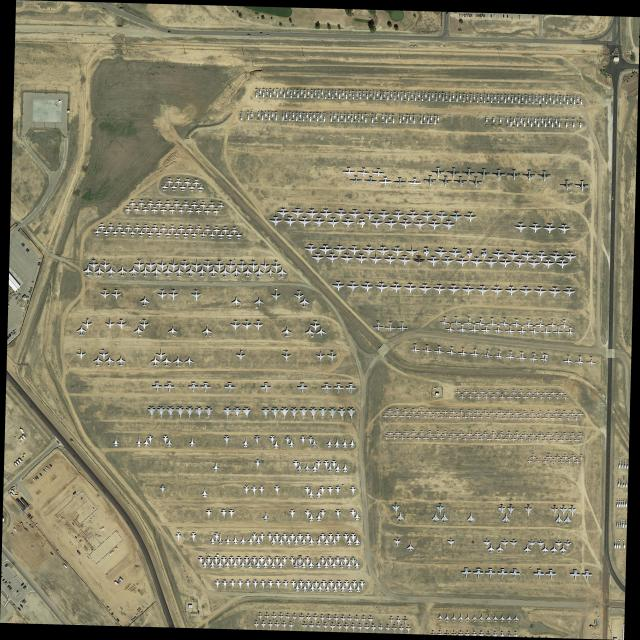plane: (439, 176, 454, 188), (523, 171, 537, 183), (477, 169, 491, 181), (469, 177, 483, 189), (447, 168, 461, 180), (492, 170, 507, 181), (431, 168, 446, 179), (576, 181, 589, 193), (508, 170, 521, 182), (276, 208, 290, 219), (291, 208, 305, 219), (492, 250, 506, 261), (470, 257, 484, 268), (513, 258, 527, 269), (527, 258, 541, 269), (549, 252, 563, 263), (560, 181, 574, 192), (538, 171, 552, 182), (462, 169, 476, 180), (454, 177, 468, 188), (424, 176, 438, 187), (391, 247, 404, 258), (363, 246, 376, 257), (456, 257, 469, 268), (441, 256, 454, 267), (427, 256, 440, 267), (384, 255, 397, 266), (326, 253, 339, 264), (542, 259, 555, 270), (556, 259, 569, 270), (450, 212, 463, 223), (529, 223, 542, 234), (558, 224, 571, 235), (333, 246, 347, 256), (506, 251, 520, 261), (442, 221, 456, 231), (357, 168, 371, 178), (260, 261, 271, 273), (157, 260, 168, 272), (140, 266, 151, 278), (509, 569, 521, 580), (270, 216, 282, 227), (435, 248, 447, 259), (312, 253, 324, 264), (406, 248, 419, 258), (377, 247, 390, 257), (348, 246, 361, 256), (319, 245, 332, 255), (305, 245, 318, 255), (298, 217, 311, 227), (284, 217, 297, 227), (534, 287, 547, 297), (306, 209, 319, 219), (320, 209, 333, 219), (327, 218, 340, 228), (335, 210, 348, 220), (370, 219, 383, 229), (377, 211, 390, 221), (384, 219, 397, 229), (392, 211, 405, 221), (406, 211, 419, 221), (413, 220, 426, 230), (449, 249, 462, 259), (521, 252, 534, 262), (349, 210, 362, 220), (342, 218, 355, 228), (563, 288, 576, 298), (413, 256, 426, 266), (369, 255, 382, 265), (355, 255, 368, 265), (340, 254, 353, 264), (564, 253, 577, 263), (535, 252, 548, 262), (428, 220, 441, 230), (421, 212, 434, 222), (436, 212, 449, 222), (464, 213, 477, 223), (544, 224, 557, 234), (363, 211, 376, 221), (520, 287, 533, 297), (505, 286, 518, 296), (332, 282, 345, 292), (347, 282, 360, 292), (361, 283, 374, 293), (375, 283, 388, 293), (404, 284, 417, 294), (433, 285, 446, 295), (447, 285, 460, 295), (372, 169, 386, 178), (364, 177, 378, 186), (349, 176, 363, 185), (191, 261, 202, 272), (231, 267, 242, 278), (271, 261, 282, 272), (248, 261, 259, 272), (214, 261, 225, 272), (310, 321, 321, 332), (168, 290, 179, 301), (157, 289, 168, 300), (139, 296, 150, 307), (111, 289, 122, 300), (117, 266, 128, 277), (128, 266, 139, 277), (230, 320, 241, 331), (188, 382, 199, 393), (333, 383, 344, 394), (281, 350, 292, 361), (98, 349, 109, 360), (164, 382, 175, 393), (152, 382, 163, 393), (473, 568, 484, 579), (570, 570, 581, 581), (461, 568, 472, 579), (169, 260, 179, 272), (209, 266, 219, 278), (316, 327, 326, 339), (231, 297, 241, 309), (95, 266, 105, 278), (151, 266, 161, 278), (400, 220, 412, 230), (399, 256, 411, 266), (485, 258, 497, 268), (515, 223, 527, 233), (475, 318, 487, 328), (419, 284, 431, 294), (477, 286, 489, 296), (491, 286, 503, 296), (481, 350, 493, 360), (493, 351, 505, 361), (528, 353, 540, 363), (347, 407, 356, 420), (299, 407, 308, 420), (233, 407, 242, 420), (195, 406, 204, 419), (166, 406, 175, 419), (157, 406, 166, 419), (147, 406, 156, 419), (312, 218, 325, 227), (499, 259, 512, 268), (390, 284, 403, 293), (462, 286, 475, 295), (342, 168, 356, 176), (393, 178, 407, 186), (379, 178, 393, 186), (254, 267, 264, 278), (237, 261, 247, 272), (226, 261, 236, 272), (180, 260, 190, 271), (134, 260, 144, 271), (89, 260, 99, 271), (220, 267, 230, 278), (197, 267, 207, 278), (186, 266, 196, 277), (241, 321, 252, 331), (253, 321, 264, 331), (300, 297, 310, 308), (294, 290, 304, 301), (271, 290, 281, 301), (191, 290, 201, 301), (100, 289, 110, 300), (106, 267, 116, 278), (163, 266, 173, 277), (174, 267, 184, 278), (83, 266, 93, 277), (139, 319, 149, 330), (224, 383, 235, 393), (261, 383, 272, 393), (297, 383, 308, 393), (321, 384, 332, 394), (346, 383, 356, 394), (327, 351, 337, 362), (315, 351, 326, 361), (235, 351, 246, 361), (184, 357, 195, 367), (162, 356, 172, 367), (150, 356, 160, 367), (156, 349, 166, 360), (116, 356, 126, 367), (105, 356, 115, 367), (93, 356, 103, 367), (76, 349, 86, 360), (77, 326, 87, 337), (82, 319, 92, 330), (134, 326, 144, 337), (200, 383, 211, 393), (498, 569, 508, 580), (534, 569, 544, 580), (582, 571, 593, 581), (485, 569, 496, 579), (445, 324, 456, 334), (439, 317, 450, 327), (499, 318, 510, 328), (410, 344, 421, 354), (422, 345, 433, 355), (434, 346, 445, 356), (446, 347, 457, 357), (505, 351, 516, 361), (575, 357, 586, 367), (559, 320, 570, 330), (529, 326, 540, 336), (328, 407, 337, 419), (223, 407, 232, 419), (549, 288, 561, 297), (290, 407, 298, 420), (281, 407, 289, 420), (262, 407, 270, 420), (205, 406, 213, 419), (186, 406, 194, 419), (176, 406, 184, 419), (507, 504, 515, 517), (498, 504, 506, 517), (408, 179, 421, 187), (243, 268, 253, 278), (277, 268, 287, 278), (203, 261, 213, 271), (202, 327, 212, 337), (146, 261, 156, 271), (100, 261, 110, 271), (282, 327, 292, 337), (305, 328, 315, 338), (168, 327, 178, 337), (173, 357, 183, 367), (105, 320, 115, 330), (116, 320, 126, 330), (546, 570, 556, 580), (505, 326, 516, 335), (487, 319, 498, 328), (481, 325, 492, 334), (463, 318, 474, 327), (451, 318, 462, 327), (397, 323, 408, 332), (511, 320, 522, 329), (517, 326, 528, 335), (458, 348, 469, 357), (470, 349, 481, 358), (563, 356, 574, 365), (586, 358, 597, 367), (553, 327, 564, 336), (547, 320, 558, 329), (541, 327, 552, 336), (535, 320, 546, 329), (523, 320, 534, 329), (338, 408, 346, 420), (319, 407, 327, 419), (309, 407, 317, 419), (271, 407, 279, 419), (243, 407, 251, 419), (502, 512, 510, 524), (551, 505, 559, 517), (555, 513, 563, 525), (560, 506, 568, 518), (564, 513, 572, 525), (392, 503, 400, 515), (432, 511, 440, 523), (266, 268, 276, 277), (254, 298, 264, 307), (469, 325, 479, 334), (517, 353, 527, 362), (540, 354, 550, 363), (565, 327, 575, 336), (467, 513, 475, 524), (385, 323, 396, 331), (373, 323, 384, 331), (525, 505, 532, 517), (441, 511, 448, 523), (437, 504, 444, 516), (397, 511, 404, 523), (235, 556, 243, 566), (212, 462, 220, 472), (135, 437, 143, 447), (188, 437, 196, 447), (541, 545, 549, 555), (528, 539, 536, 549), (510, 539, 518, 549), (447, 538, 455, 548), (478, 613, 486, 623), (376, 623, 384, 633), (321, 622, 329, 632), (493, 326, 503, 334), (457, 325, 467, 333), (213, 532, 220, 543), (569, 506, 576, 517), (551, 544, 558, 555), (120, 228, 128, 237), (146, 229, 154, 238), (195, 207, 203, 216), (182, 201, 190, 210), (137, 200, 146, 208), (179, 183, 187, 192), (166, 178, 174, 187), (102, 228, 110, 237), (190, 230, 198, 239), (199, 230, 207, 239), (221, 227, 230, 235), (195, 225, 203, 234), (133, 225, 142, 233), (124, 206, 132, 215), (151, 206, 159, 215), (564, 540, 572, 549), (559, 545, 567, 554), (555, 540, 563, 549), (537, 540, 545, 549), (501, 539, 509, 548), (496, 544, 504, 553), (487, 544, 495, 553), (483, 539, 491, 548), (369, 624, 377, 633), (363, 624, 371, 633), (356, 623, 364, 632), (349, 623, 357, 632), (313, 580, 320, 590), (309, 582, 316, 592), (305, 580, 312, 590), (298, 580, 305, 590), (294, 582, 301, 592), (252, 580, 259, 590), (229, 580, 236, 590), (214, 579, 221, 589), (197, 556, 204, 566), (202, 558, 209, 568), (206, 556, 213, 566), (209, 558, 216, 568), (213, 556, 220, 566), (328, 580, 335, 590), (336, 580, 343, 590), (351, 580, 358, 590), (343, 580, 350, 590), (228, 556, 235, 566), (354, 559, 361, 569), (350, 557, 357, 567), (350, 533, 357, 543), (343, 533, 350, 543), (327, 533, 334, 543), (319, 533, 326, 543), (304, 533, 311, 543), (297, 533, 304, 543), (278, 535, 285, 545), (300, 559, 307, 569), (308, 559, 315, 569), (323, 559, 330, 569), (232, 535, 239, 545), (201, 488, 208, 498), (334, 463, 341, 473), (342, 463, 349, 473), (323, 460, 330, 470), (315, 460, 322, 470), (292, 460, 299, 470), (254, 459, 261, 469), (112, 437, 119, 447), (143, 437, 150, 447), (162, 435, 169, 445), (242, 438, 249, 448), (269, 435, 276, 445), (251, 486, 258, 496), (258, 486, 265, 496), (217, 535, 224, 545), (190, 532, 197, 542), (175, 532, 182, 542), (205, 509, 212, 519), (220, 509, 227, 519), (228, 509, 235, 519), (289, 509, 296, 519), (354, 511, 361, 521), (308, 512, 315, 522), (320, 509, 327, 519), (319, 486, 326, 496), (288, 438, 295, 448), (311, 438, 318, 448), (326, 438, 333, 448), (334, 438, 341, 448), (253, 620, 260, 630), (485, 613, 492, 623), (464, 613, 471, 623), (457, 613, 464, 623), (298, 613, 305, 623), (384, 623, 391, 633), (312, 613, 319, 623), (305, 613, 312, 623), (222, 579, 228, 590), (255, 558, 261, 569), (472, 613, 478, 624), (111, 228, 119, 236), (129, 229, 137, 237), (155, 230, 163, 238), (164, 230, 172, 238), (173, 230, 181, 238), (212, 208, 220, 216), (217, 203, 225, 211), (208, 202, 216, 210), (173, 201, 181, 209), (164, 201, 172, 209), (147, 200, 155, 208), (129, 200, 137, 208), (161, 183, 169, 191), (170, 183, 178, 191), (188, 184, 196, 192), (192, 179, 200, 187), (184, 179, 192, 187), (107, 224, 115, 232), (98, 224, 106, 232), (186, 208, 194, 216), (177, 207, 185, 215), (208, 231, 216, 239), (217, 231, 225, 239), (226, 232, 234, 240), (213, 227, 221, 235), (204, 226, 212, 234), (186, 226, 194, 234), (168, 225, 176, 233), (151, 225, 159, 233), (142, 225, 150, 233), (133, 206, 141, 214), (160, 207, 168, 215), (328, 623, 336, 631), (300, 623, 308, 631), (324, 583, 331, 592), (290, 580, 297, 589), (275, 580, 282, 589), (237, 580, 244, 589), (332, 583, 339, 592), (359, 581, 366, 590), (355, 583, 362, 592), (347, 583, 354, 592), (346, 536, 353, 545), (331, 536, 338, 545), (316, 536, 323, 545), (308, 536, 315, 545), (293, 536, 300, 545), (289, 533, 296, 542), (274, 533, 281, 542), (259, 533, 266, 542), (255, 536, 262, 545), (342, 557, 349, 566), (346, 560, 353, 569), (232, 559, 239, 568), (240, 559, 247, 568), (247, 559, 254, 568), (251, 557, 258, 566), (266, 557, 273, 566), (274, 557, 281, 566), (289, 557, 296, 566), (327, 557, 334, 566), (251, 533, 258, 542), (175, 178, 182, 187), (304, 463, 311, 472), (296, 463, 303, 472), (159, 485, 166, 494), (147, 435, 154, 444), (166, 438, 173, 447), (223, 435, 230, 444), (273, 440, 280, 449), (243, 486, 250, 495), (316, 512, 323, 521), (350, 509, 357, 518), (304, 486, 311, 495), (284, 436, 291, 445), (300, 436, 307, 445), (307, 436, 314, 445), (349, 439, 356, 448), (524, 545, 531, 554), (407, 543, 414, 552), (394, 538, 401, 547), (388, 616, 395, 625), (492, 614, 499, 623), (343, 623, 350, 632), (315, 623, 322, 632), (367, 616, 374, 625), (339, 614, 346, 623), (321, 580, 327, 590), (302, 582, 308, 592), (283, 579, 289, 589), (340, 582, 346, 592), (225, 558, 231, 568), (335, 533, 341, 543), (286, 535, 292, 545), (282, 533, 288, 543), (244, 556, 250, 566), (259, 556, 265, 566), (263, 558, 269, 568), (278, 559, 284, 569), (293, 559, 299, 569), (316, 559, 322, 569), (331, 559, 337, 569), (335, 557, 341, 567), (248, 535, 254, 545), (240, 535, 246, 545), (331, 460, 337, 470), (312, 463, 318, 473), (274, 485, 280, 495), (225, 535, 231, 545), (210, 535, 216, 545), (305, 509, 311, 519), (335, 509, 341, 519), (327, 486, 333, 496), (308, 488, 314, 498), (342, 438, 348, 448), (264, 612, 270, 622), (499, 613, 505, 623), (451, 613, 457, 623), (444, 613, 450, 623), (292, 613, 298, 623), (326, 613, 332, 623), (323, 537, 330, 545), (138, 229, 145, 237), (182, 230, 189, 238), (200, 202, 207, 210), (191, 202, 198, 210), (156, 201, 163, 209), (197, 184, 204, 192), (204, 208, 211, 216), (235, 232, 243, 239), (178, 226, 185, 234), (160, 226, 168, 233), (125, 225, 132, 233), (116, 225, 124, 232), (169, 207, 176, 215), (405, 625, 412, 633), (308, 623, 315, 631), (360, 616, 367, 624), (94, 228, 101, 236), (268, 580, 274, 589), (317, 583, 323, 592), (260, 580, 266, 589), (245, 580, 251, 589), (217, 559, 223, 568), (221, 557, 227, 566), (354, 536, 360, 545), (301, 536, 307, 545), (271, 536, 277, 545), (267, 533, 273, 542), (339, 560, 345, 569), (270, 559, 276, 568), (282, 557, 288, 566), (297, 557, 303, 566), (305, 557, 311, 566), (320, 557, 326, 566), (327, 463, 333, 472), (254, 436, 260, 445), (263, 512, 269, 521), (350, 486, 356, 495), (335, 486, 341, 495), (316, 489, 322, 498), (281, 622, 287, 631), (285, 613, 291, 622), (278, 613, 284, 622), (274, 621, 280, 630), (271, 613, 277, 622), (395, 616, 401, 625), (402, 616, 408, 625), (437, 613, 443, 622), (506, 614, 512, 623), (288, 622, 294, 631), (336, 623, 342, 632), (354, 615, 360, 624), (347, 615, 353, 624), (333, 614, 339, 623), (319, 614, 325, 623), (268, 621, 273, 631), (231, 228, 238, 235), (142, 207, 149, 214), (542, 458, 549, 465), (578, 454, 585, 461), (383, 434, 390, 441), (526, 436, 533, 443), (502, 436, 509, 443), (482, 431, 489, 438), (454, 435, 461, 442), (565, 415, 572, 422), (554, 394, 561, 401), (557, 415, 564, 422), (458, 409, 465, 416), (467, 393, 474, 400), (257, 613, 263, 621), (392, 625, 398, 633), (398, 625, 404, 633), (514, 614, 519, 623), (546, 454, 553, 460), (526, 458, 533, 464), (530, 454, 537, 460), (534, 458, 541, 464), (554, 454, 561, 460), (562, 454, 569, 460), (566, 459, 573, 465), (570, 454, 577, 460), (574, 459, 581, 465), (577, 433, 584, 439), (573, 437, 580, 443), (569, 433, 576, 439), (566, 437, 573, 443), (561, 432, 568, 438), (557, 437, 564, 443), (394, 409, 401, 415), (398, 413, 405, 419), (402, 409, 409, 415), (406, 413, 413, 419), (410, 409, 417, 415), (414, 413, 421, 419), (418, 409, 425, 415), (422, 413, 429, 419), (426, 409, 433, 415), (430, 435, 437, 441), (438, 435, 445, 441), (442, 431, 449, 437), (538, 432, 545, 438), (522, 432, 529, 438), (510, 436, 517, 442), (506, 432, 513, 438), (498, 432, 505, 438), (494, 436, 501, 442), (490, 432, 497, 438), (486, 436, 493, 442), (478, 436, 485, 442), (474, 431, 481, 437), (470, 436, 477, 442), (466, 431, 473, 437), (462, 436, 469, 442), (458, 431, 465, 437), (450, 431, 457, 437), (434, 409, 441, 415), (442, 409, 449, 415), (446, 414, 453, 420), (530, 394, 537, 400), (577, 411, 584, 417), (562, 395, 569, 401), (558, 390, 565, 396), (550, 390, 557, 396), (546, 394, 553, 400), (542, 390, 549, 396), (534, 390, 541, 396), (526, 390, 533, 396), (522, 394, 529, 400), (518, 390, 525, 396), (514, 394, 521, 400), (506, 394, 513, 400), (499, 394, 506, 400), (549, 415, 556, 421), (450, 409, 457, 415), (454, 414, 461, 420), (462, 414, 469, 420), (466, 410, 473, 416), (474, 410, 481, 416), (482, 410, 489, 416), (486, 414, 492, 421), (513, 410, 520, 416), (521, 410, 528, 416), (525, 415, 532, 421), (533, 415, 540, 421), (541, 415, 548, 421), (463, 389, 470, 395), (459, 394, 466, 400), (455, 389, 462, 395), (446, 436, 454, 441), (550, 437, 556, 443), (435, 431, 441, 437), (427, 431, 433, 437), (423, 435, 429, 441), (415, 435, 421, 441), (407, 435, 413, 441), (403, 430, 409, 436), (399, 435, 405, 441), (395, 430, 401, 436), (391, 435, 397, 441), (387, 430, 393, 436), (383, 413, 389, 419), (391, 413, 397, 419), (546, 432, 552, 438), (542, 437, 548, 443), (534, 437, 540, 443), (530, 432, 536, 438), (514, 432, 520, 438), (438, 414, 444, 420), (570, 411, 576, 417), (511, 390, 517, 396), (495, 389, 501, 395), (491, 394, 497, 400), (487, 389, 493, 395), (483, 394, 489, 400), (479, 389, 485, 395), (562, 411, 568, 417), (554, 411, 560, 417), (470, 414, 476, 420), (478, 414, 484, 420), (490, 410, 496, 416), (494, 414, 500, 420), (498, 410, 504, 416), (502, 415, 508, 421), (506, 410, 512, 416), (510, 415, 516, 421), (518, 415, 524, 421), (471, 389, 477, 395), (550, 459, 557, 464), (558, 459, 565, 464), (418, 431, 425, 436), (386, 409, 393, 414), (430, 414, 437, 419), (518, 437, 525, 442), (573, 416, 580, 421), (538, 395, 545, 400), (537, 411, 544, 416), (545, 411, 552, 416), (474, 394, 481, 399), (554, 433, 560, 438), (411, 431, 417, 436), (503, 390, 509, 395), (530, 411, 536, 416)
small-vehicle: (63, 564, 68, 569), (22, 599, 26, 604), (21, 582, 25, 587), (28, 514, 32, 519), (20, 242, 24, 246), (20, 604, 24, 608), (17, 607, 21, 611), (23, 585, 27, 589), (49, 463, 53, 467), (32, 478, 36, 482), (29, 482, 33, 486), (29, 516, 33, 520), (4, 563, 8, 567), (5, 565, 9, 569), (8, 581, 12, 585), (26, 522, 29, 527), (22, 244, 25, 248), (24, 601, 27, 605), (117, 619, 120, 623), (502, 14, 505, 18), (25, 248, 29, 251), (27, 249, 30, 253), (46, 466, 49, 470), (43, 469, 46, 473), (39, 473, 43, 476), (27, 513, 30, 517), (14, 528, 17, 532), (35, 523, 39, 526), (2, 578, 5, 582), (4, 580, 7, 584), (8, 586, 12, 589), (111, 613, 114, 616), (506, 15, 509, 18), (481, 14, 484, 17), (16, 590, 19, 593), (9, 587, 12, 590), (36, 476, 39, 479), (35, 477, 38, 480), (7, 585, 10, 588), (612, 51, 614, 55), (519, 15, 521, 19), (494, 14, 496, 18), (476, 14, 478, 18), (14, 494, 18, 496), (168, 31, 171, 33), (260, 32, 263, 34), (247, 34, 250, 36), (532, 16, 534, 19), (490, 15, 492, 18), (483, 14, 485, 17), (480, 14, 482, 17), (478, 14, 480, 17), (471, 14, 473, 17), (45, 468, 47, 471), (469, 14, 471, 17), (467, 14, 469, 17), (464, 14, 466, 17), (462, 14, 464, 17), (459, 14, 461, 17), (612, 196, 613, 200), (198, 610, 199, 614), (267, 35, 270, 36), (466, 14, 467, 17)
